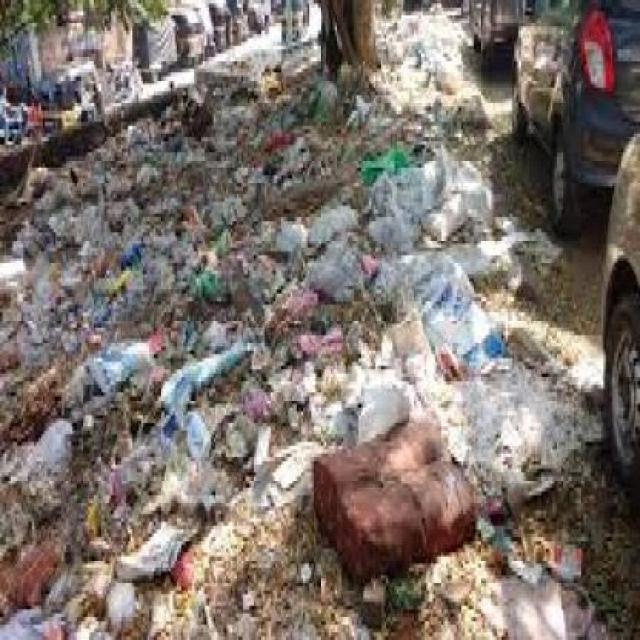garbage: (0, 0, 474, 636), (479, 165, 603, 638)
